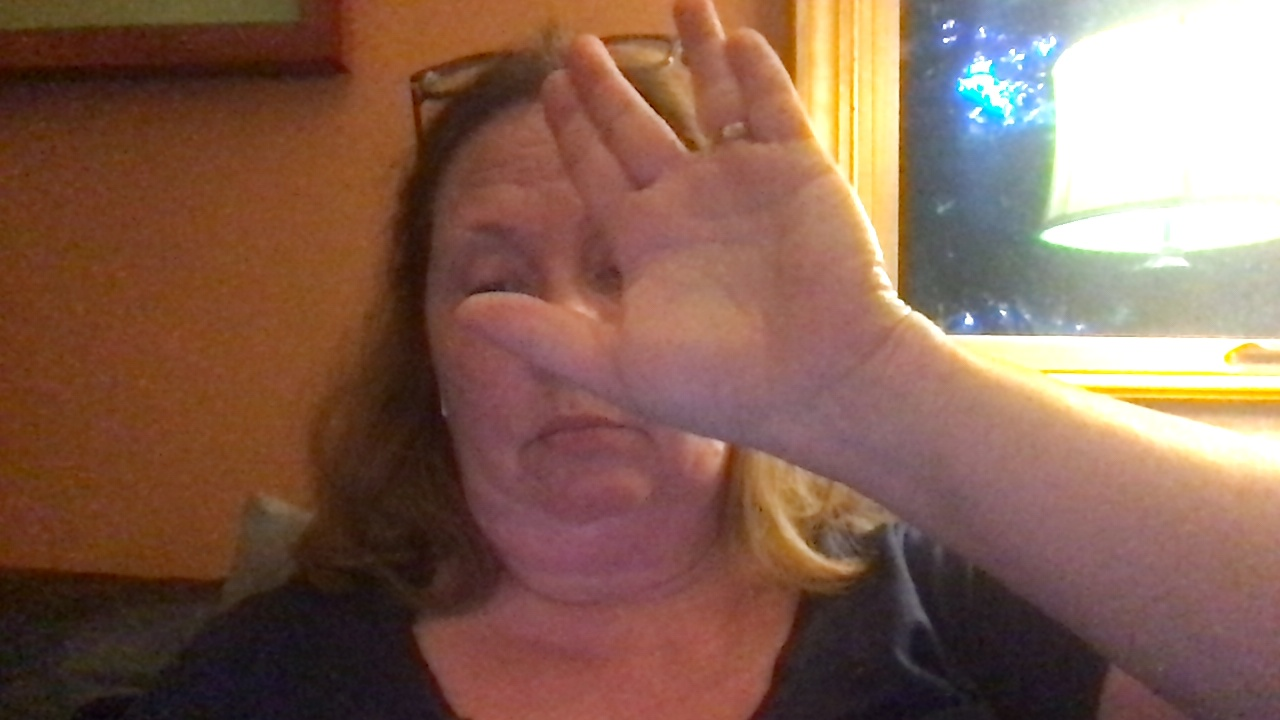livelong: (449, 1, 892, 439)
